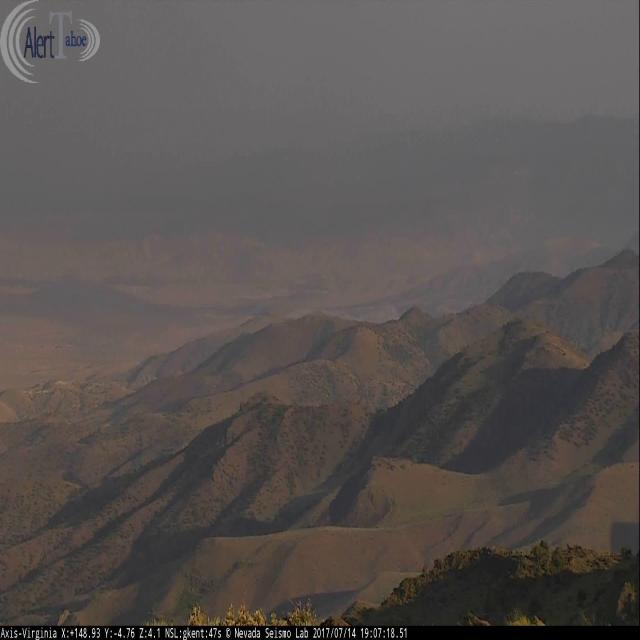smoke: (356, 301, 400, 324)
